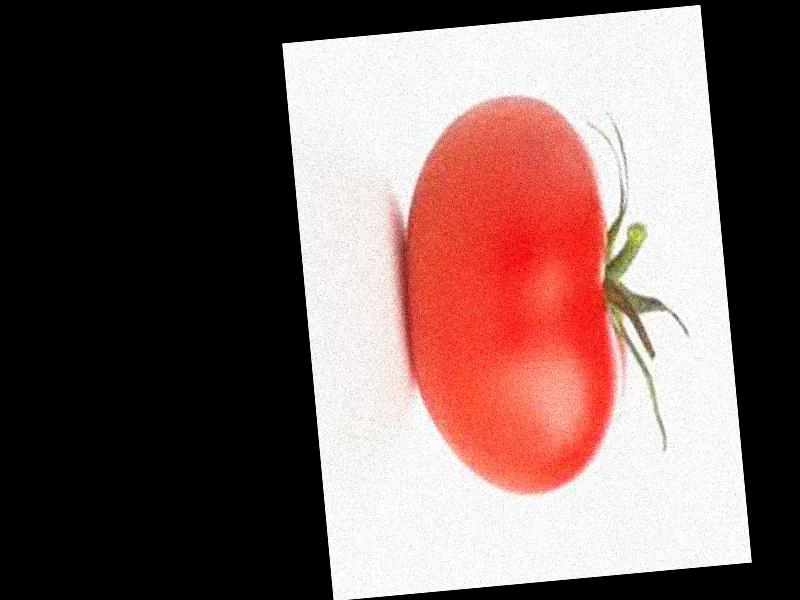Tomato: (389, 91, 630, 504)
